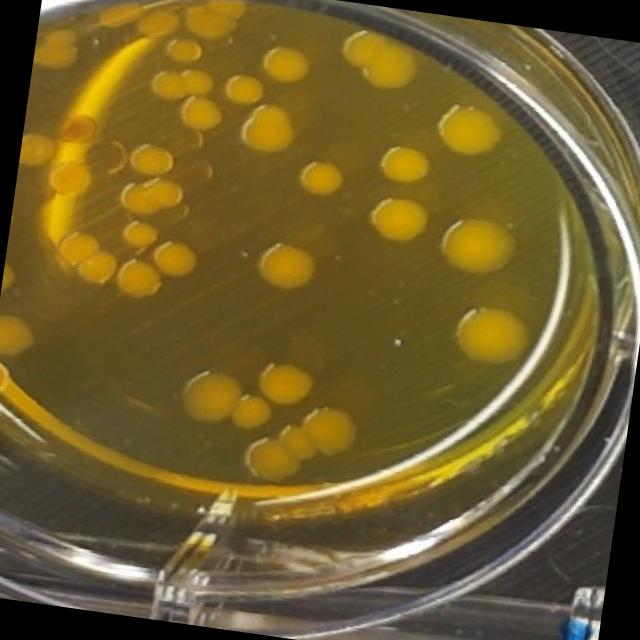vibrio: (440, 296, 546, 374), (324, 23, 430, 96), (432, 208, 522, 283), (422, 98, 512, 163), (360, 187, 440, 251), (172, 364, 246, 430), (50, 225, 124, 288), (248, 235, 322, 296), (296, 398, 365, 461), (236, 97, 304, 159), (115, 171, 190, 222), (252, 351, 319, 407), (176, 0, 253, 45), (239, 436, 308, 486), (147, 61, 220, 106), (294, 153, 358, 203), (375, 140, 438, 190), (256, 40, 320, 89), (32, 24, 87, 76), (111, 254, 168, 303), (147, 236, 205, 282), (130, 1, 186, 46), (173, 90, 230, 134), (125, 136, 182, 179), (42, 157, 100, 199), (228, 390, 279, 434), (220, 68, 270, 110), (91, 0, 149, 36), (0, 310, 40, 360), (158, 32, 210, 67), (18, 130, 61, 172), (118, 216, 166, 253)
